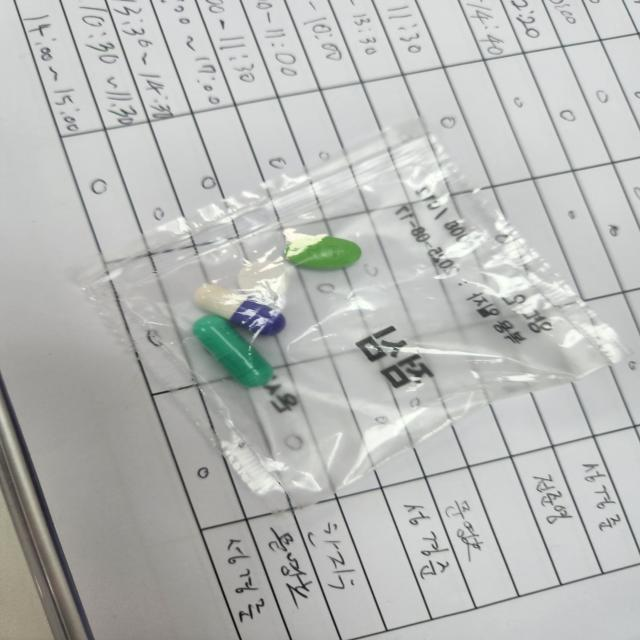러키펜정: (239, 260, 286, 299)
씨엠지세파클러캡슐: (194, 285, 286, 336)
에르도캡슐: (191, 315, 277, 391)
휴티렌정: (282, 234, 364, 275)
